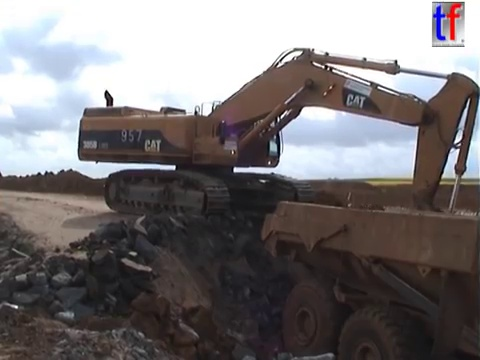excavator: (74, 44, 479, 264)
truck: (257, 179, 480, 360)
